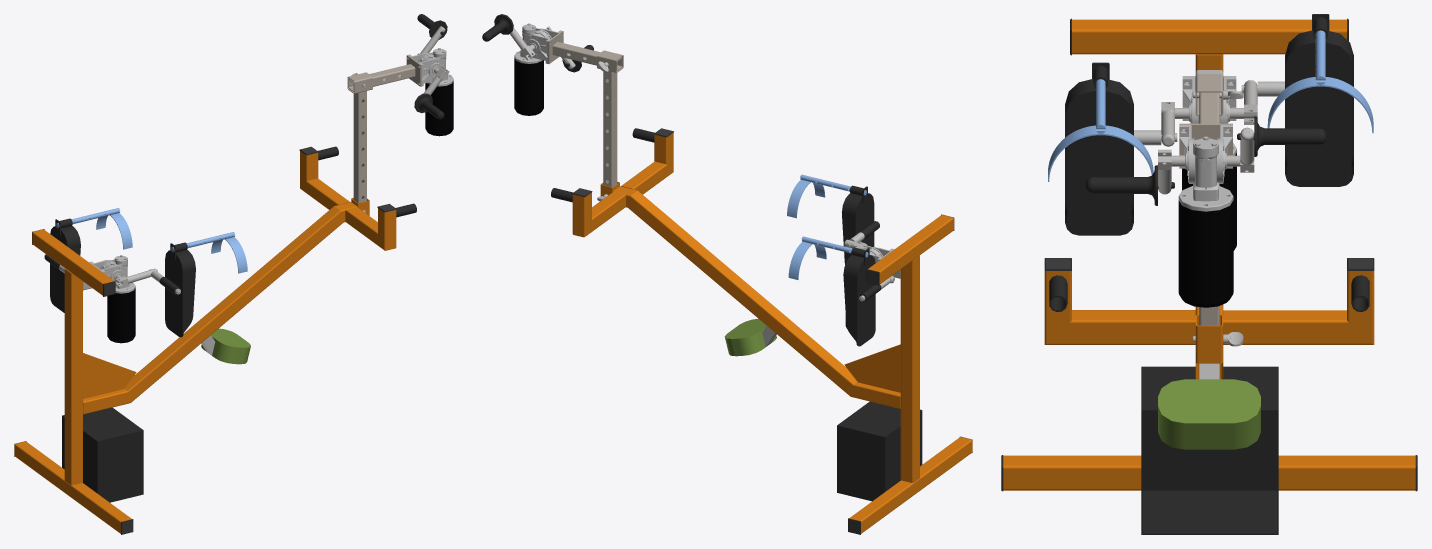
Rendered from BICI_ARMADA.obj.
3 renders of one model, left to right at view 1: azimuth 30°, elevation 25°; view 2: azimuth 150°, elevation 25°; view 3: azimuth 270°, elevation 25°, orthographic. The views are drawn at different scales.
Visible parts, largest first — view 1: Solid1:9, Solid1:18, Solid1:1, Solid1:2, Solid1:44, Solid1, Solid1:17, Solid1:28, Solid1:5, Solid1:41, Solid1:32, Solid1:55 (+10 smaller); view 2: Solid1:9, Solid1:18, Solid1:1, Solid1:2, Solid1:41, Solid1, Solid1:17, Solid1:28, Solid1:32, Solid1:44, Solid1:55, Solid1:31 (+8 smaller); view 3: Solid1:18, Solid1:2, Solid1:41, Solid1:44, Solid1, Solid1:55, Solid1:32, Solid1:15, Solid1:11, Solid1:31, Solid1:53, Solid1:54 (+16 smaller).
Part boxes in pixels (x1=…): Solid1:9: x1=124, y1=206, x2=343, y2=402; Solid1:18: x1=62, y1=407, x2=143, y2=502; Solid1:1: x1=64, y1=268, x2=82, y2=485; Solid1:2: x1=14, y1=441, x2=131, y2=533; Solid1:44: x1=159, y1=250, x2=195, y2=337; Solid1: x1=32, y1=229, x2=114, y2=295; Solid1:17: x1=83, y1=353, x2=136, y2=398; Solid1:28: x1=353, y1=91, x2=366, y2=202; Solid1:5: x1=107, y1=288, x2=135, y2=343; Solid1:41: x1=44, y1=226, x2=80, y2=312; Solid1:32: x1=425, y1=81, x2=453, y2=136; Solid1:55: x1=201, y1=328, x2=250, y2=364; Solid1:9: x1=627, y1=190, x2=857, y2=396; Solid1:18: x1=837, y1=401, x2=922, y2=501; Solid1:1: x1=900, y1=255, x2=919, y2=482; Solid1:2: x1=849, y1=437, x2=972, y2=533; Solid1:41: x1=843, y1=255, x2=881, y2=346; Solid1: x1=868, y1=215, x2=953, y2=284; Solid1:17: x1=844, y1=344, x2=900, y2=392; Solid1:28: x1=603, y1=71, x2=617, y2=187; Solid1:32: x1=514, y1=58, x2=543, y2=115; Solid1:44: x1=842, y1=193, x2=879, y2=264; Solid1:55: x1=724, y1=318, x2=776, y2=356; Solid1:31: x1=514, y1=23, x2=561, y2=63; Solid1:18: x1=1141, y1=366, x2=1278, y2=534; Solid1:2: x1=1003, y1=455, x2=1415, y2=490; Solid1:41: x1=1285, y1=30, x2=1353, y2=186; Solid1:44: x1=1065, y1=79, x2=1133, y2=235; Solid1: x1=1072, y1=19, x2=1346, y2=54; Solid1:55: x1=1158, y1=379, x2=1260, y2=449; Solid1:32: x1=1178, y1=200, x2=1233, y2=307; Solid1:15: x1=1045, y1=310, x2=1195, y2=344; Solid1:11: x1=1223, y1=310, x2=1373, y2=344; Solid1:31: x1=1178, y1=125, x2=1233, y2=211; Solid1:53: x1=1267, y1=30, x2=1373, y2=133; Solid1:54: x1=1048, y1=79, x2=1153, y2=181.
Bounding box in the file's own units: 1274 × 1160 × 606.
